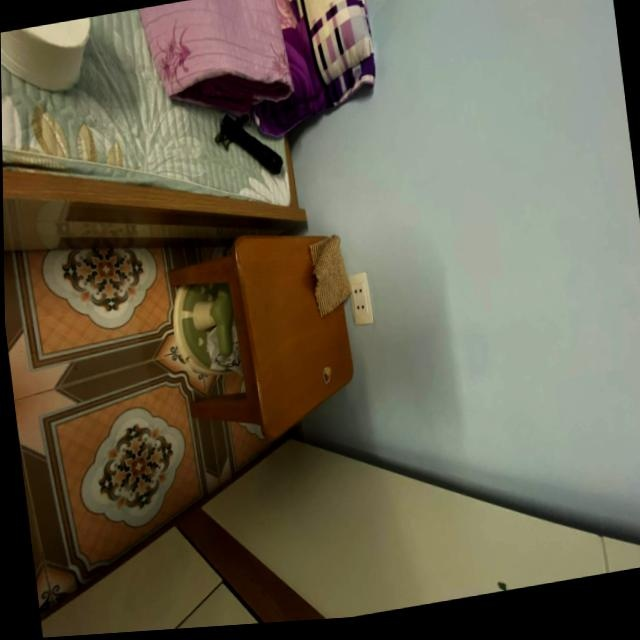outlet: (347, 271, 373, 326)
